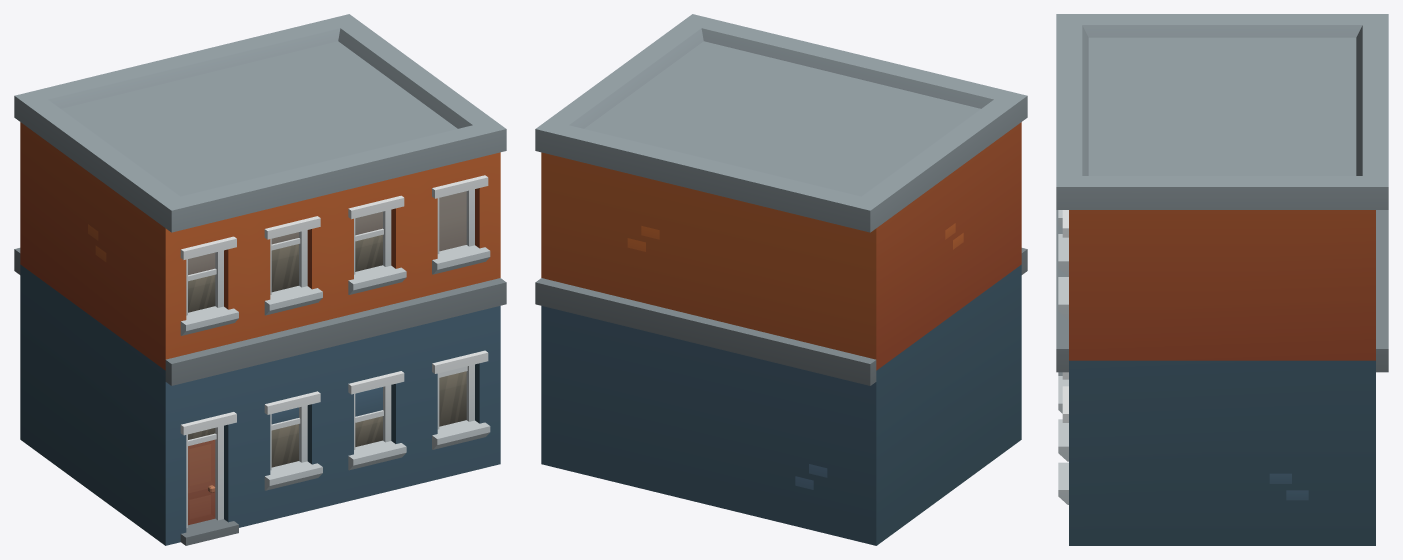
Rendered from building_B_withoutBase.glb.
3 views of the same model, side by side, from view 1: azimuth 30°, elevation 25°; view 2: azimuth 150°, elevation 25°; view 3: azimuth 270°, elevation 25° (orthographic). The views are drawn at different scales.
Visible parts, largest first — view 1: building_B_withoutBase; view 2: building_B_withoutBase; view 3: building_B_withoutBase.
Boxes of the visible parts, x1,y1,x2,y2 form: building_B_withoutBase: (14, 14, 506, 545); building_B_withoutBase: (535, 14, 1027, 545); building_B_withoutBase: (1056, 14, 1388, 545).
Bounding box in the file's own units: 1.61 × 1.55 × 1.3.
Materials: 1 (1 with a texture image).
